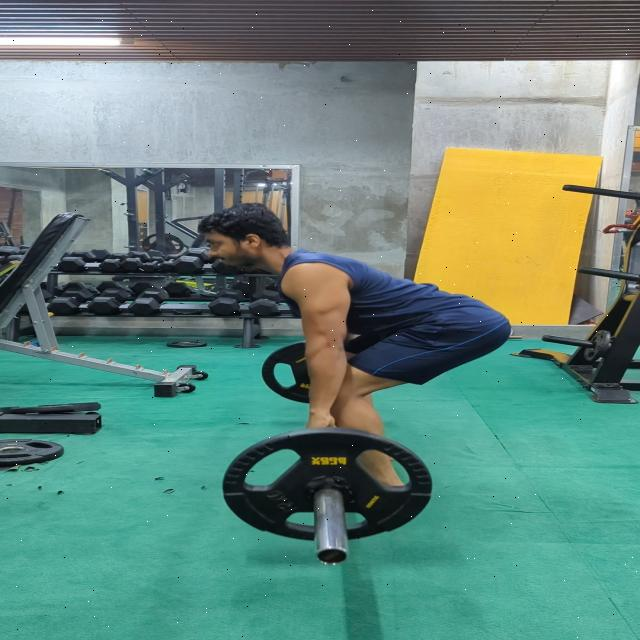Normal_Deadlifts: (196, 204, 516, 517)
